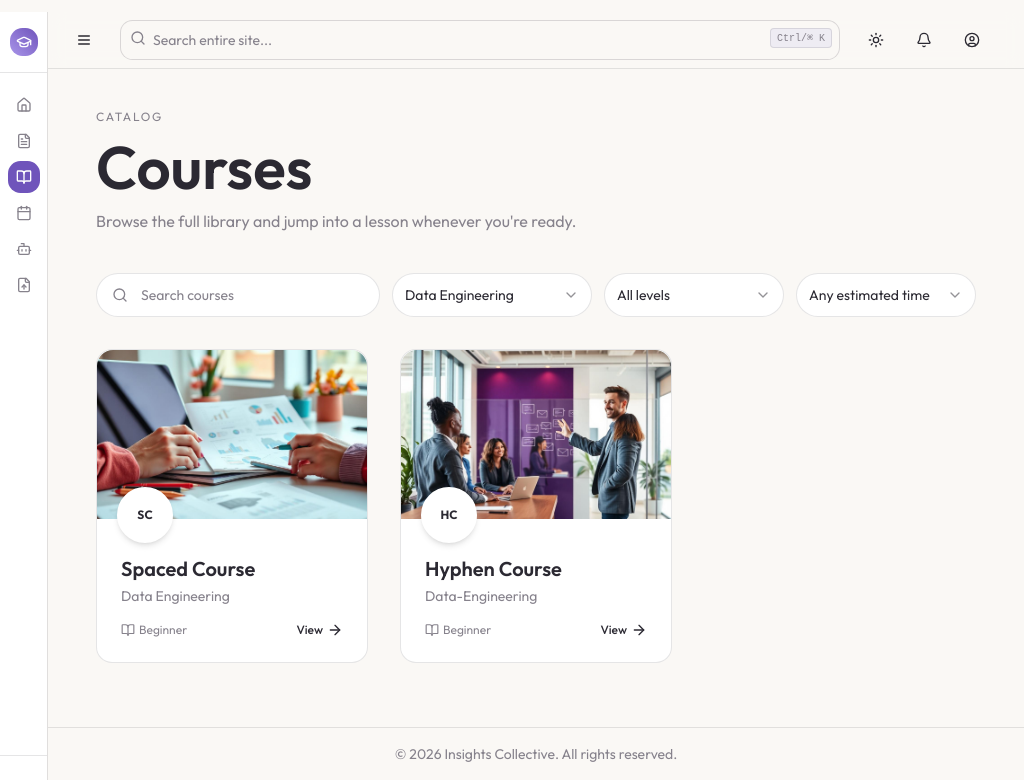
CourseList ?category= direct load (existing footer slugs are the input contract) › two stored names with the same slug are one option and both are kept
The width and height of the screenshot is (1024, 780).
Click the dropdown named "Category" at (492, 295), box [392,273,592,317]
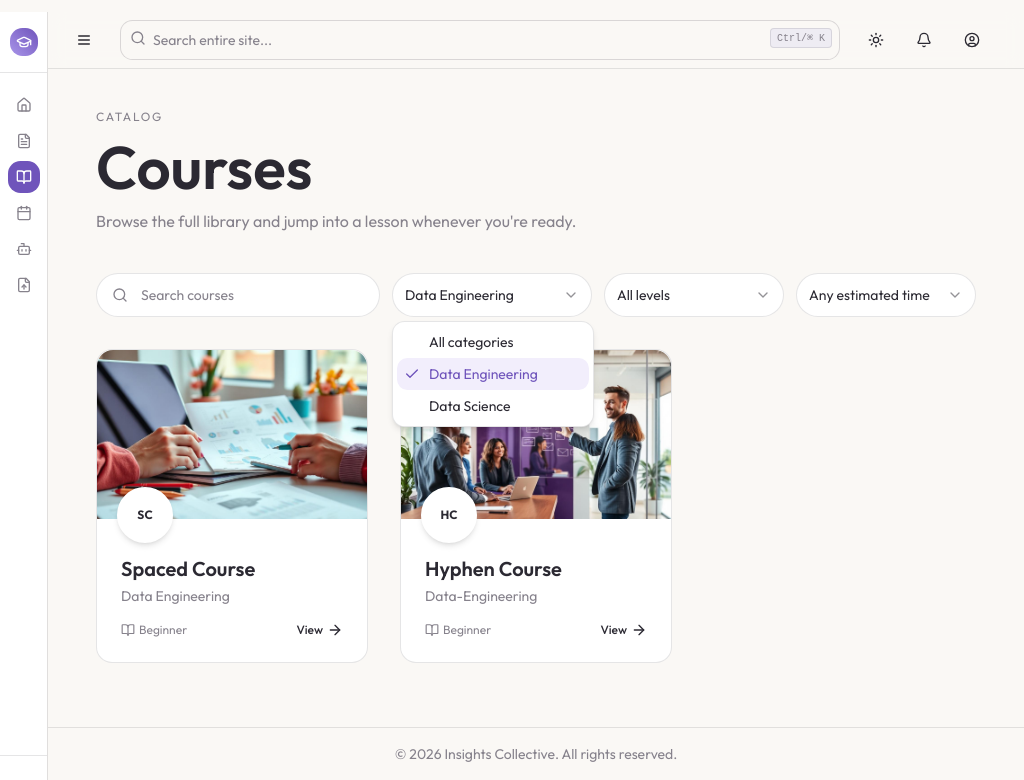
expect the options read "All categories", "Data Engineering", "Data Science", in this order: met, box [429,333,513,351]; [397,358,589,390]; [429,397,510,415]
